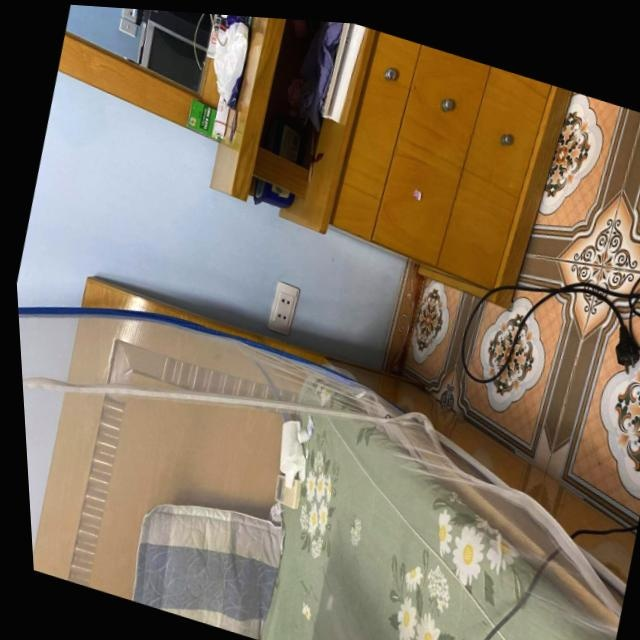outlet: (263, 278, 303, 337)
